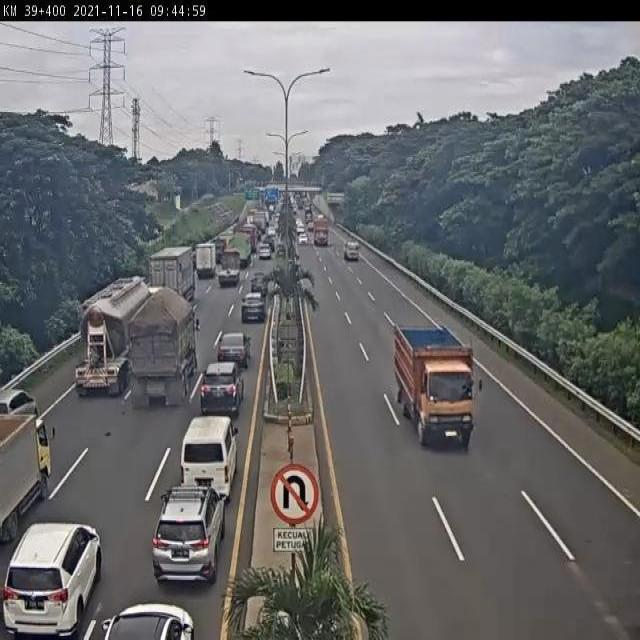Car: (3, 521, 102, 636), (152, 481, 227, 587), (197, 362, 246, 414), (217, 331, 251, 366), (240, 290, 266, 325), (250, 272, 270, 291), (258, 244, 272, 260), (298, 233, 310, 244)
Truck: (393, 326, 483, 449), (74, 281, 152, 396), (131, 287, 200, 406), (0, 408, 57, 538), (149, 244, 194, 305), (218, 249, 242, 285), (196, 242, 217, 277), (227, 232, 250, 263), (343, 238, 362, 262), (314, 219, 330, 247)
Van: (180, 414, 239, 499)
